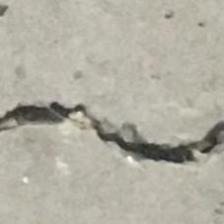Crack: (0, 92, 224, 198)
